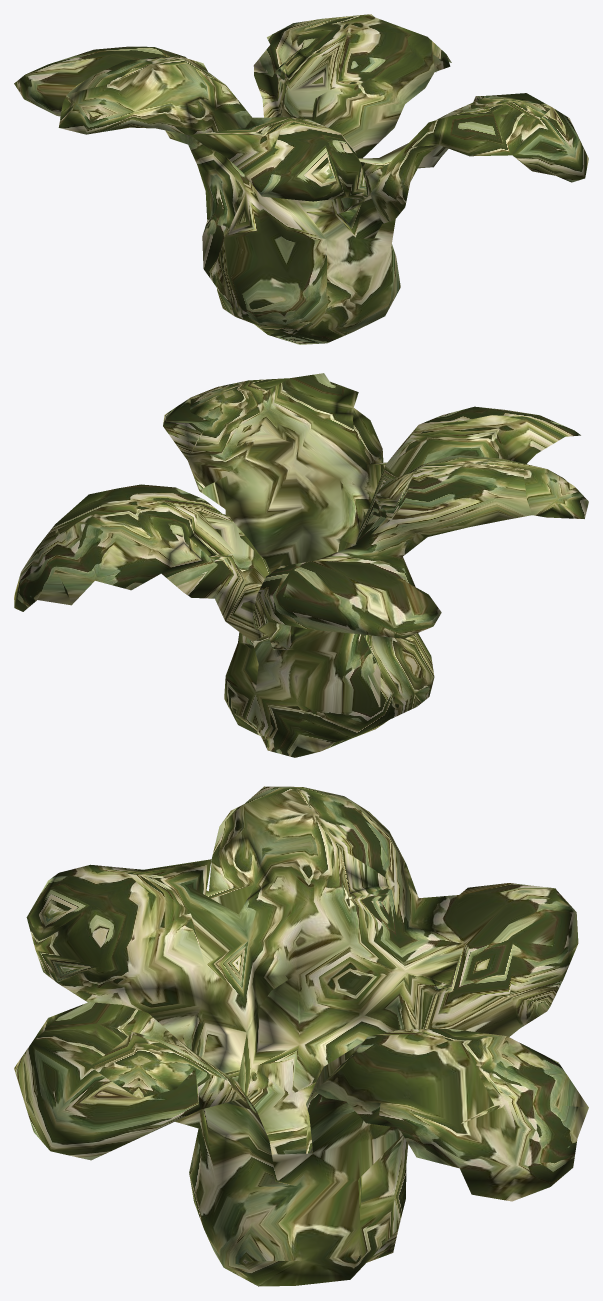
The model's file is lingcao_shengling_mature.obj.
3 renders of one model, top to bottom at view 1: azimuth 30°, elevation 25°; view 2: azimuth 150°, elevation 25°; view 3: azimuth 270°, elevation 25°, orthographic. The views are drawn at different scales.
Parts seen in each view (by area): view 1: lingcao_shengling_mature; view 2: lingcao_shengling_mature; view 3: lingcao_shengling_mature.
Part boxes in pixels (x1,y1,x2,y2): lingcao_shengling_mature: [14, 14, 588, 344]; lingcao_shengling_mature: [14, 373, 588, 757]; lingcao_shengling_mature: [14, 786, 588, 1286].
Bounding box in the file's own units: 0.5229 × 0.327 × 0.4686.
1 material, 1 textured.
